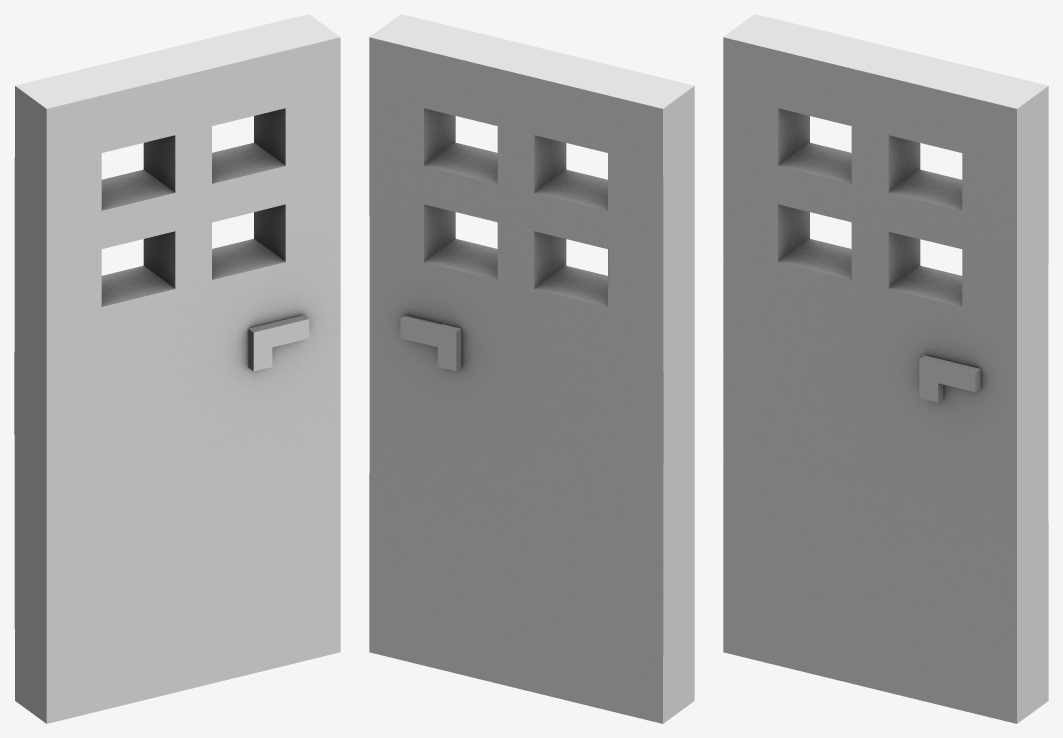
The model's file is Wooden-Door.obj.
3 views of the same model, side by side, from view 1: azimuth 30°, elevation 25°; view 2: azimuth 150°, elevation 25°; view 3: azimuth 330°, elevation 25° (orthographic).
Parts seen in each view (by area): view 1: Cube.000_Cube.014; view 2: Cube.000_Cube.014; view 3: Cube.000_Cube.014.
Part boxes in pixels (x1,y1,x2,y2): Cube.000_Cube.014: (14,14,340,723); Cube.000_Cube.014: (369,14,694,723); Cube.000_Cube.014: (723,14,1048,723).
Bounding box in the file's own units: 2 × 4 × 0.4988.
Materials: 1 (1 with a texture image).
